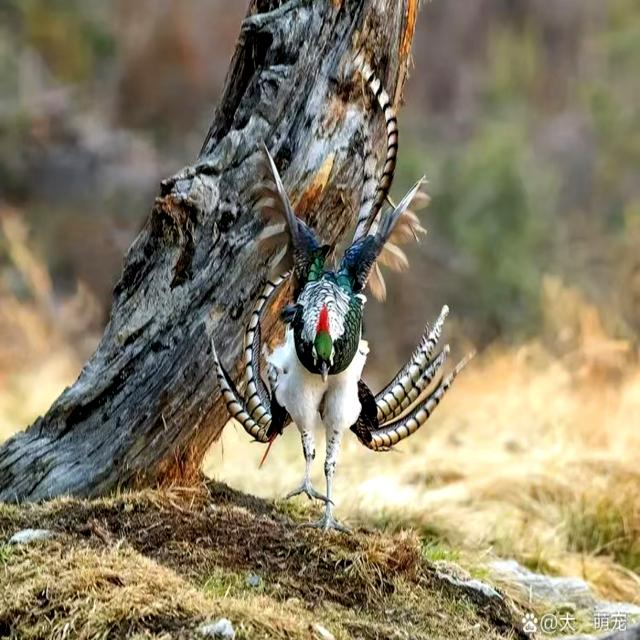Chrysolophus amherstiae: (366, 306, 474, 451), (212, 307, 279, 441), (359, 61, 398, 233), (381, 182, 419, 228)
